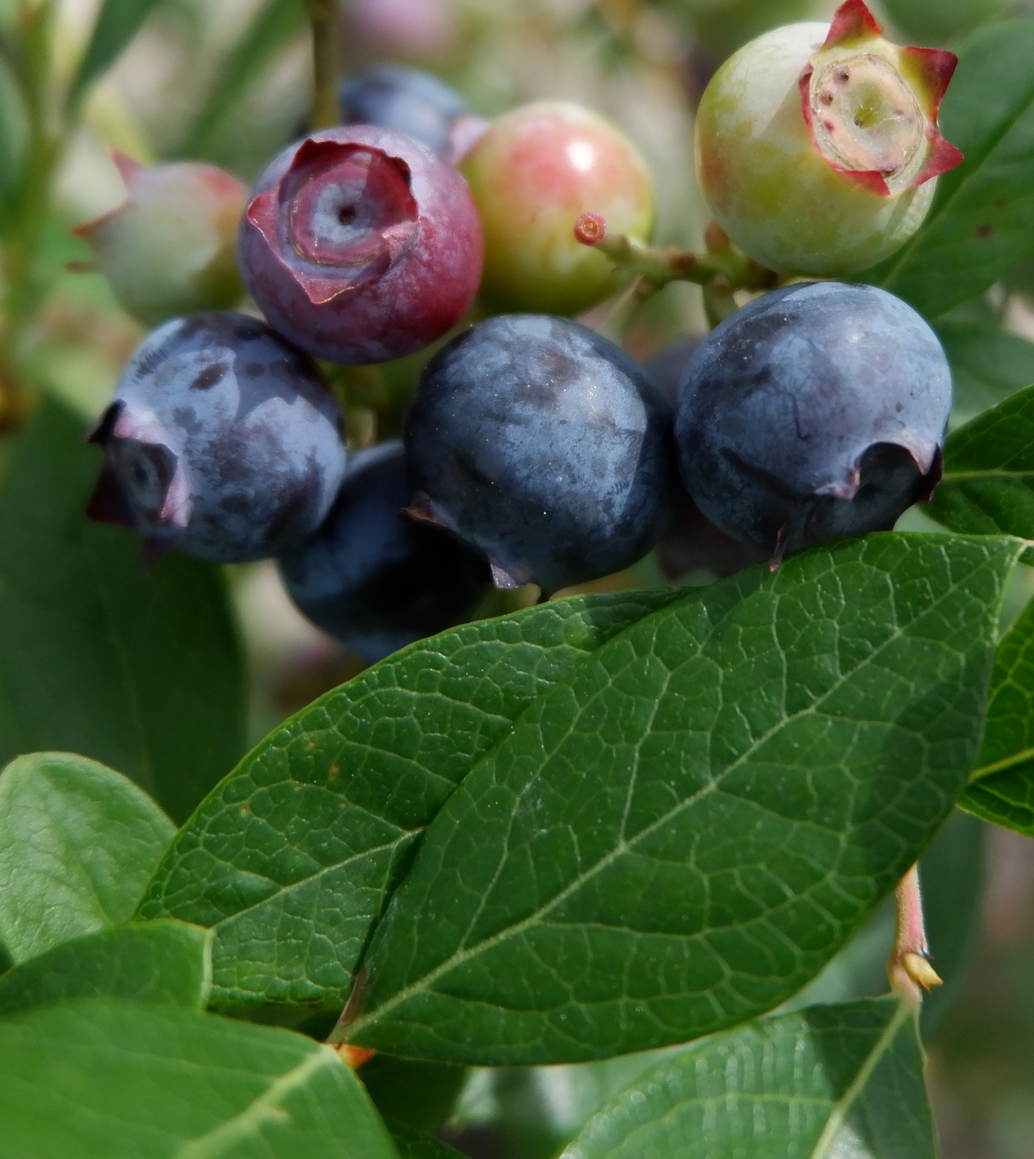Immature: (693, 3, 964, 284), (466, 105, 650, 308), (76, 155, 241, 325)
Mature: (679, 283, 948, 557), (407, 313, 670, 584), (93, 313, 340, 556), (239, 129, 480, 359), (278, 454, 486, 652), (340, 69, 455, 151)
